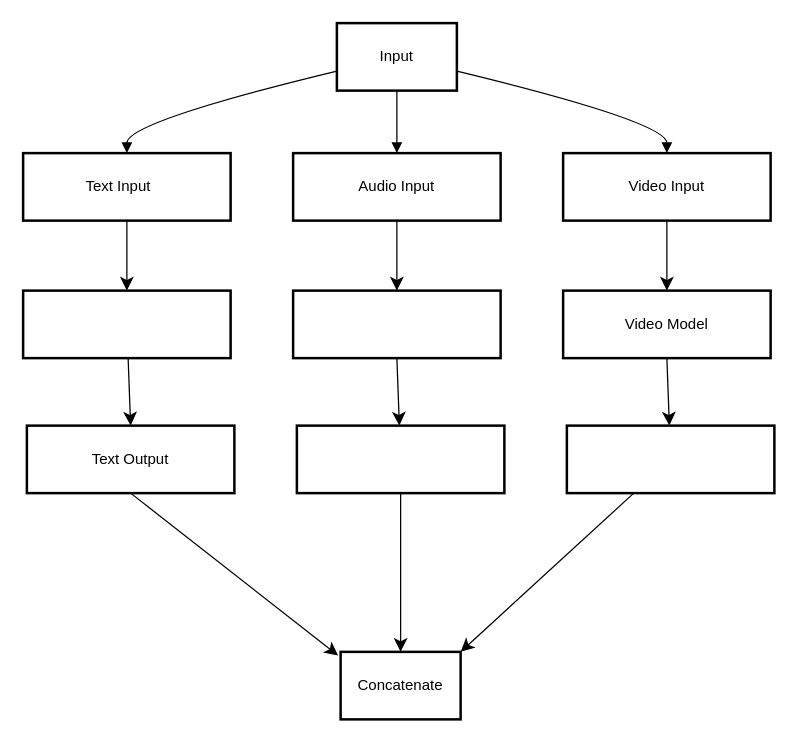
The diagram is 796 pixels wide and 741 high, and some of its shapes have lost their labels. Here are the shapes that lost their labels. From the top down, the centre of each, then its label:
At point (126, 324): "Text Model".
At point (396, 324): "Audio Model".
At point (400, 459): "Audio Output".
At point (670, 459): "Video Output".
